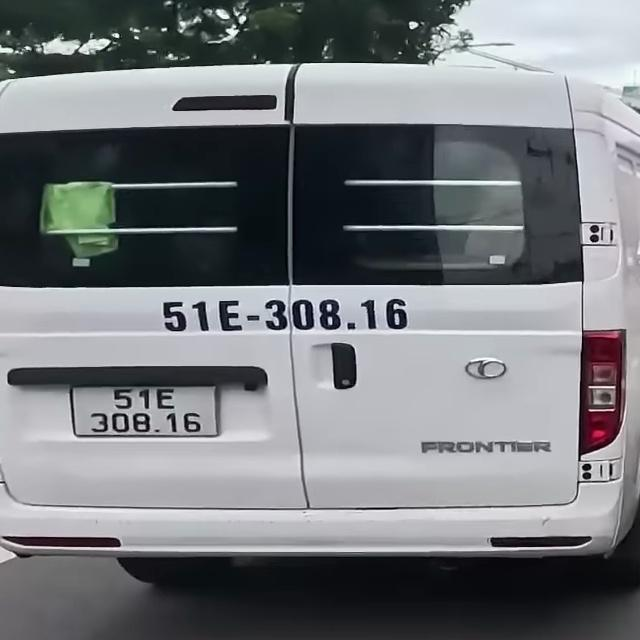license-plate: (73, 386, 214, 437)
